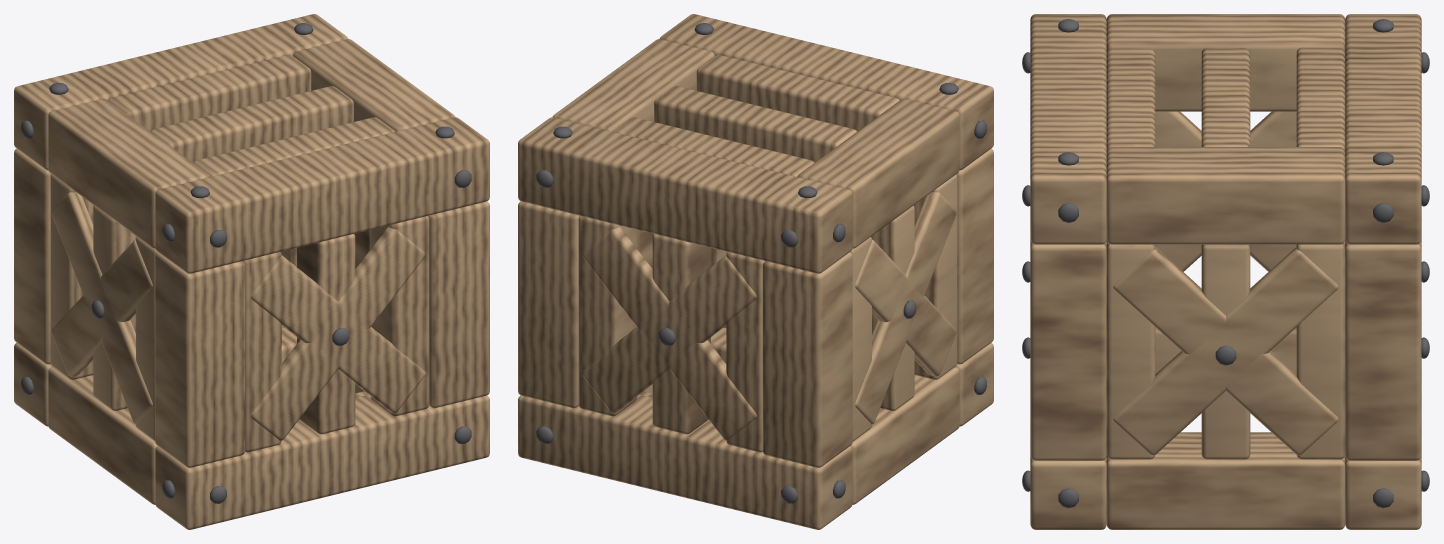
The model's file is crateMesh2.glb.
3 views of the same model, side by side, from view 1: azimuth 30°, elevation 25°; view 2: azimuth 150°, elevation 25°; view 3: azimuth 270°, elevation 25° (orthographic). The views are drawn at different scales.
Parts seen in each view (by area): view 1: Crate; view 2: Crate; view 3: Crate.
Part boxes in pixels (x1,y1,x2,y2): Crate: (14, 14, 489, 529); Crate: (518, 14, 993, 529); Crate: (1022, 14, 1429, 529).
Size of the model in its own units: 1.04 by 1.04 by 1.04.
Materials: 2 (1 with a texture image).
